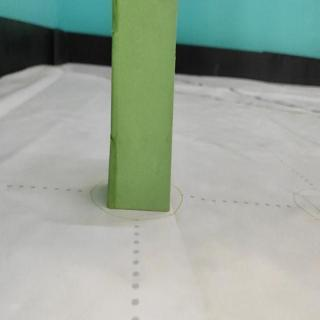greenbox: (109, 0, 179, 211)
